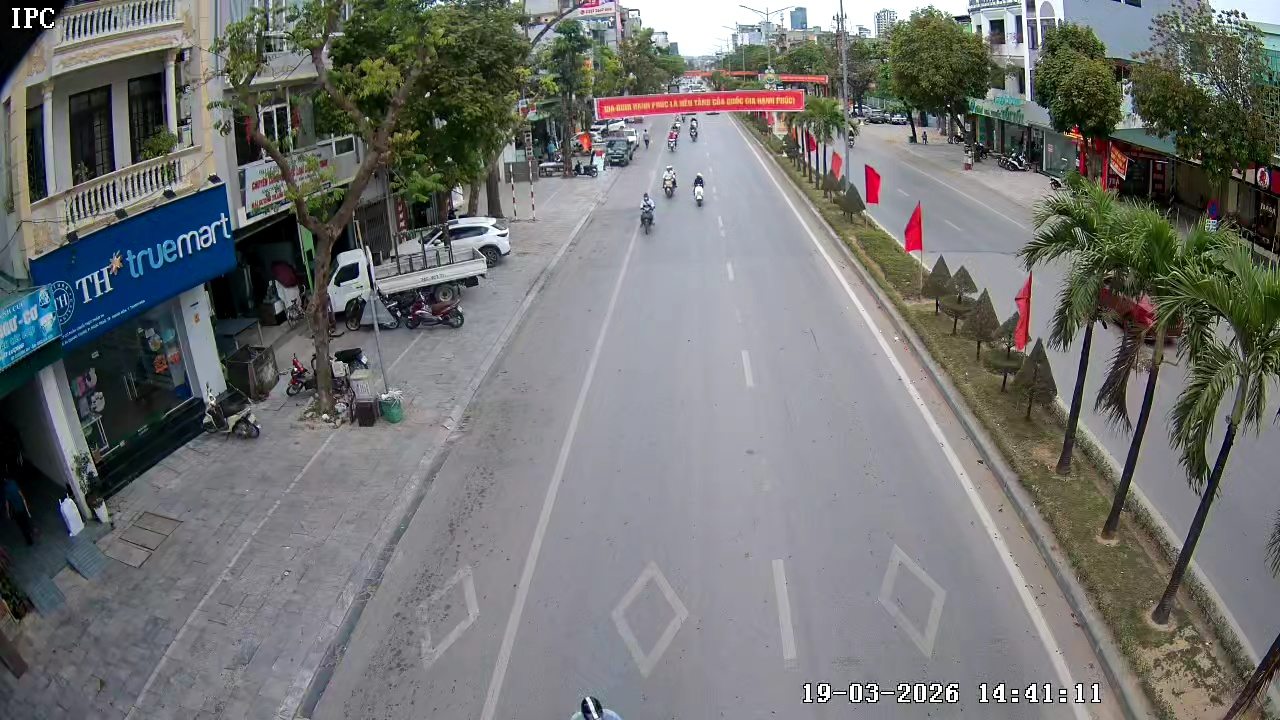motorbike: (636, 188, 658, 236), (660, 163, 679, 200), (691, 171, 709, 209), (665, 118, 681, 152), (687, 114, 701, 143)
